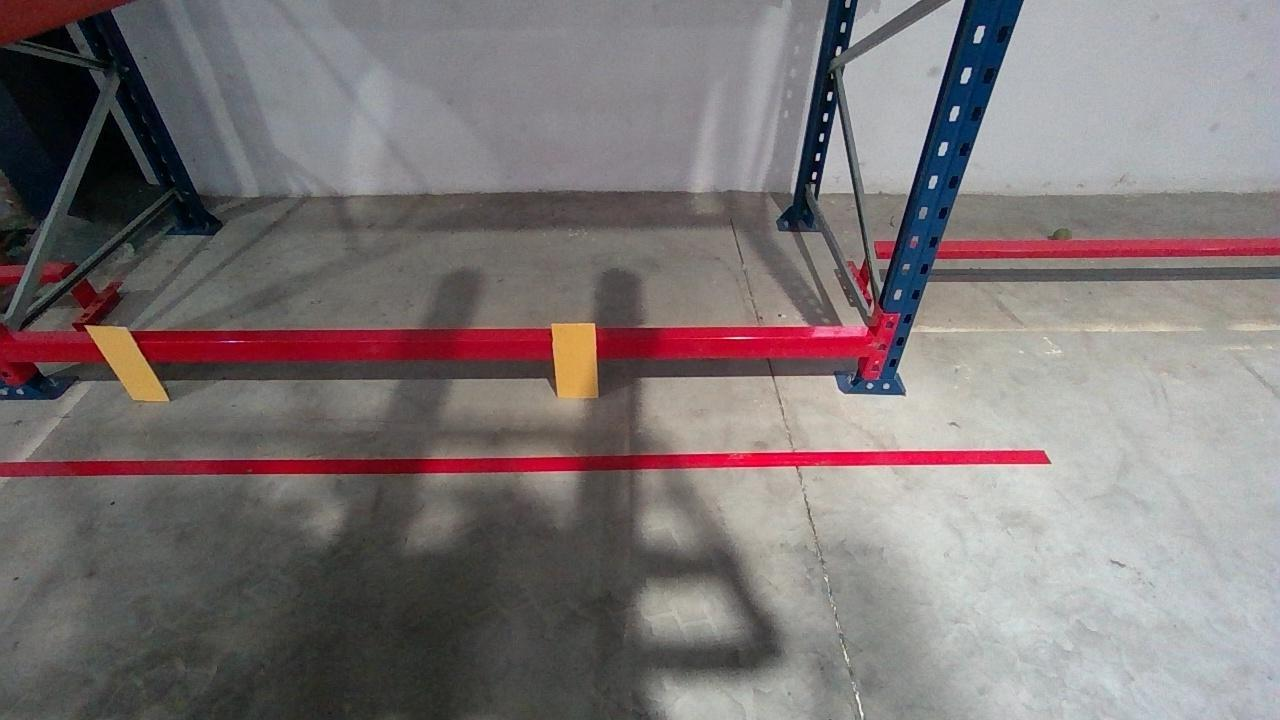h_rack: (3, 335, 874, 357)
orange_strip: (78, 327, 173, 401), (549, 322, 599, 397)
red_line: (1, 447, 1055, 477)
